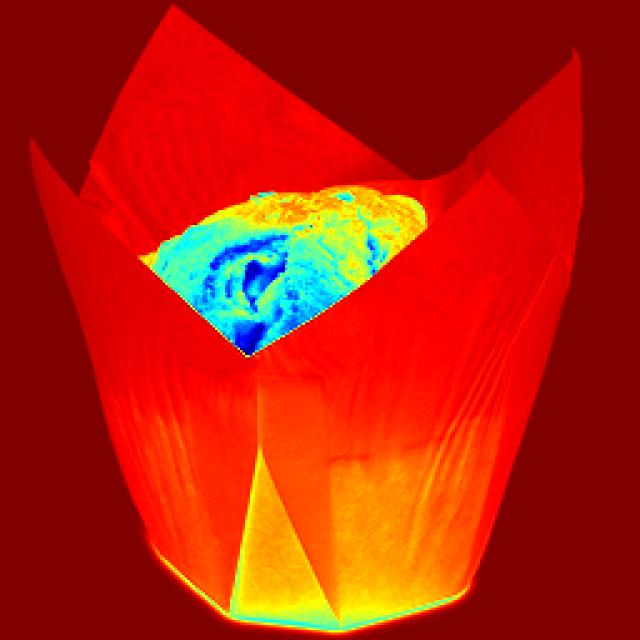Paper Cups: (109, 80, 539, 614)
